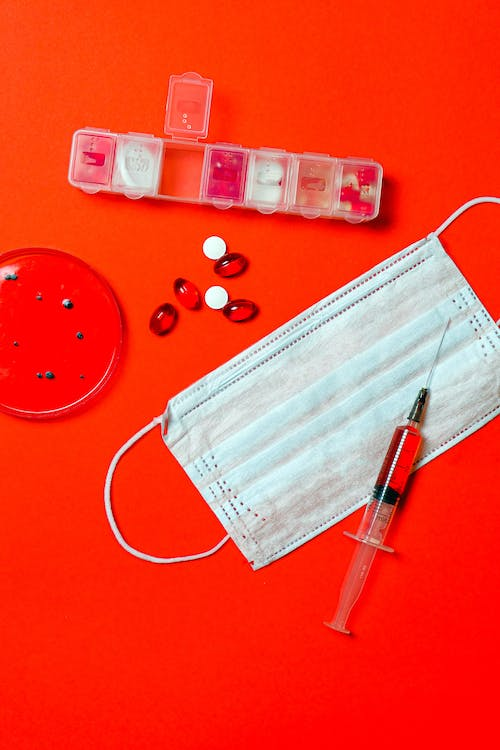blood: (0, 244, 127, 423), (366, 384, 432, 511)
